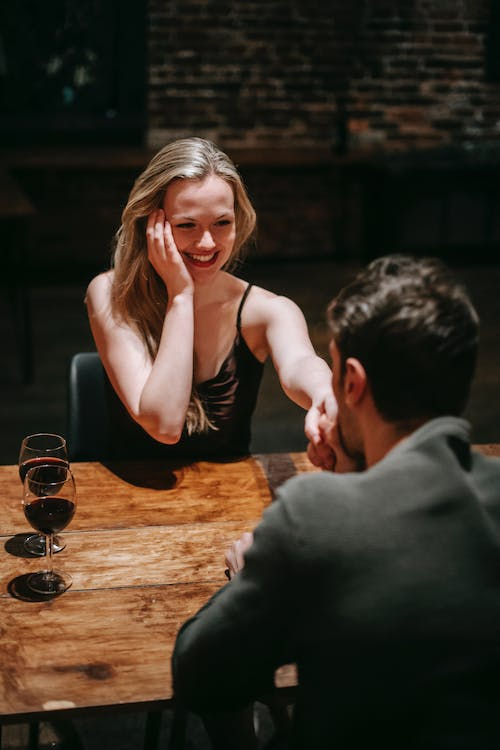alcohol: (20, 463, 78, 596), (16, 432, 71, 557)
